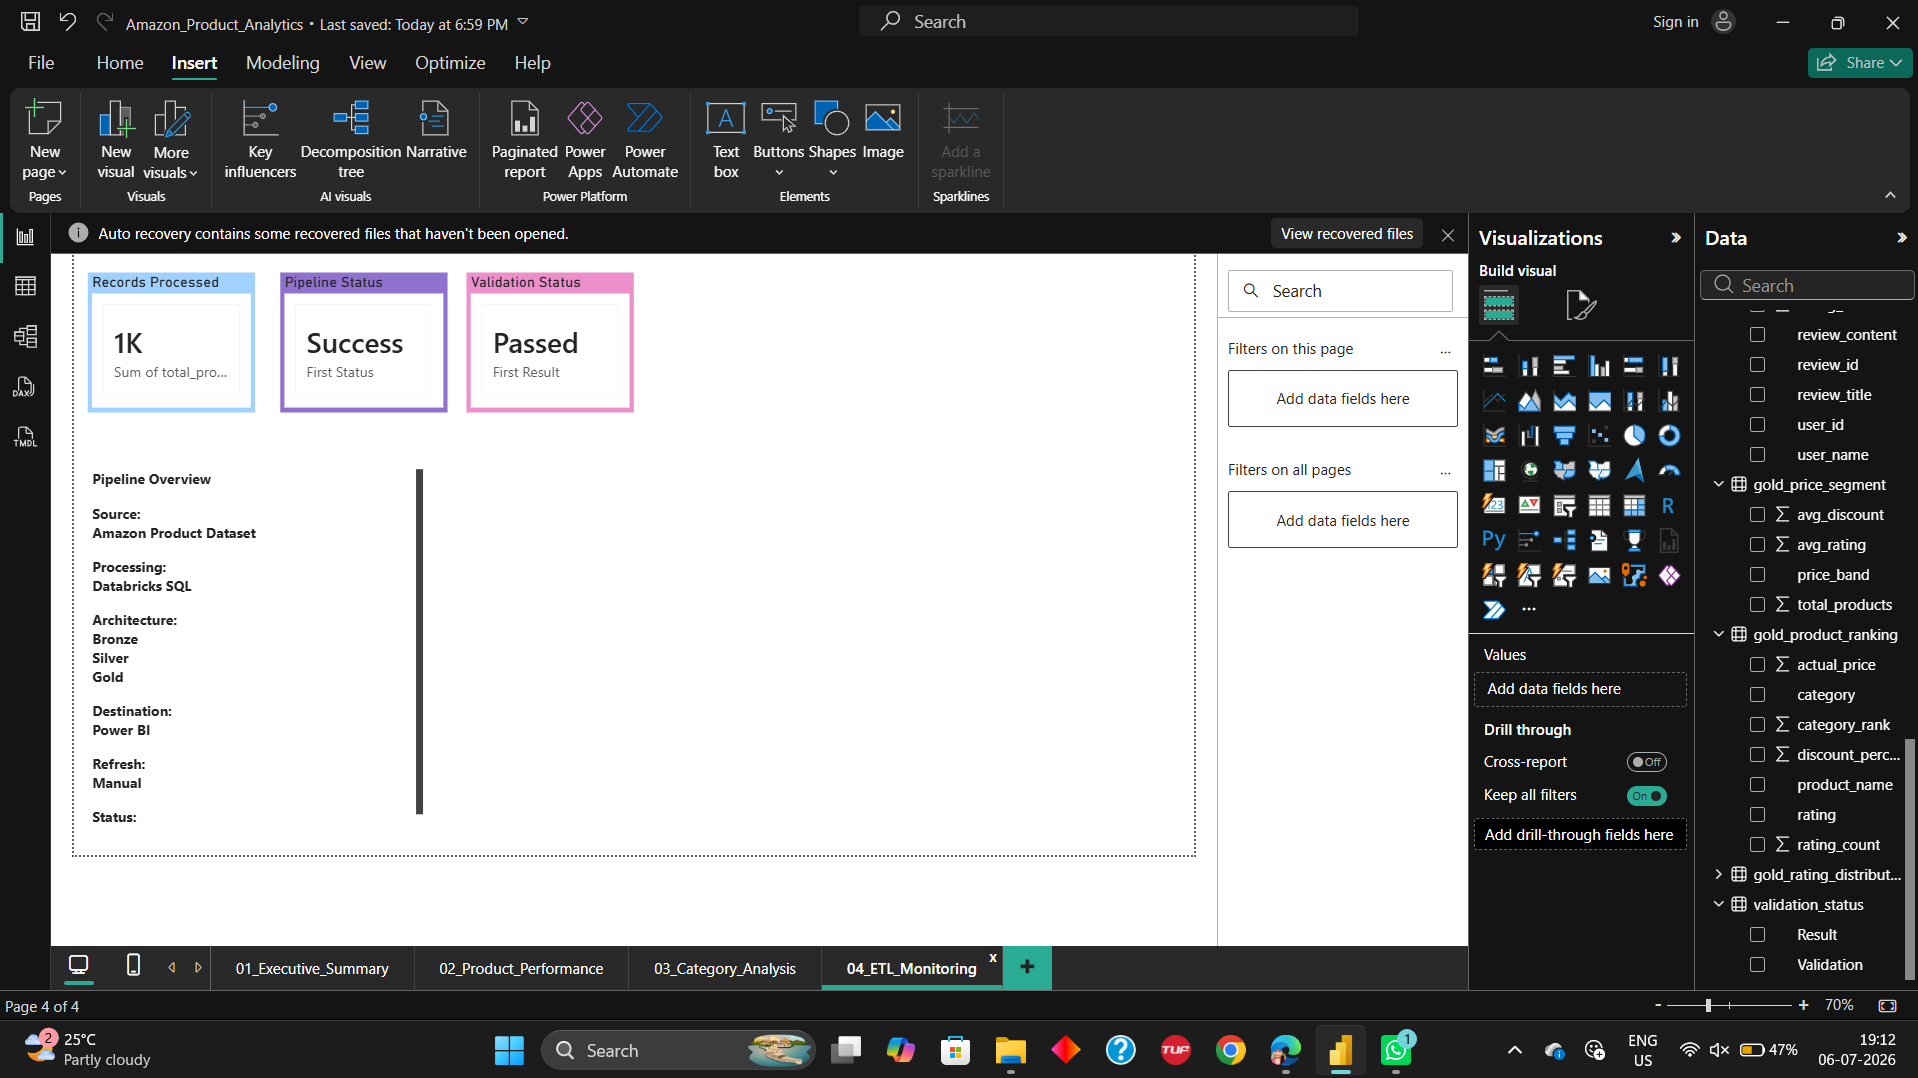

The page's visual inventory and layout, read from the dashboard file:
{"tool":"powerbi","page":{"name":"04_ETL_Monitoring","canvas":[1280,720],"ordinal":3},"visuals":[{"type":"cardVisual","title":"Records Processed","fields":{"Data":["Sum(gold_dashboard_kpi.total_products)"]},"box":[15.7,54.3,191.4,160],"z":0},{"type":"cardVisual","title":"Pipeline Status","fields":{"Data":["Min(etl_status.Status)"]},"box":[235.7,54.3,191.4,160],"z":1},{"type":"cardVisual","title":"Validation Status","fields":{"Data":["Min(validation_status.Result)"]},"box":[448.6,54.3,191.4,160],"z":2},{"type":"textbox","box":[15.7,274.3,388.6,421.4],"z":3}]}

Visuals, with their boxes on the page's 1280x720 design canvas (x1, y1, x2, y2). These are canvas units, not pixel positions in the 1918x1078 screenshot, which may show the page scaled, cropped or inside an application window:
"Records Processed" cardVisual: crop(16, 54, 207, 214)
"Pipeline Status" cardVisual: crop(236, 54, 427, 214)
"Validation Status" cardVisual: crop(449, 54, 640, 214)
textbox: crop(16, 274, 404, 696)
